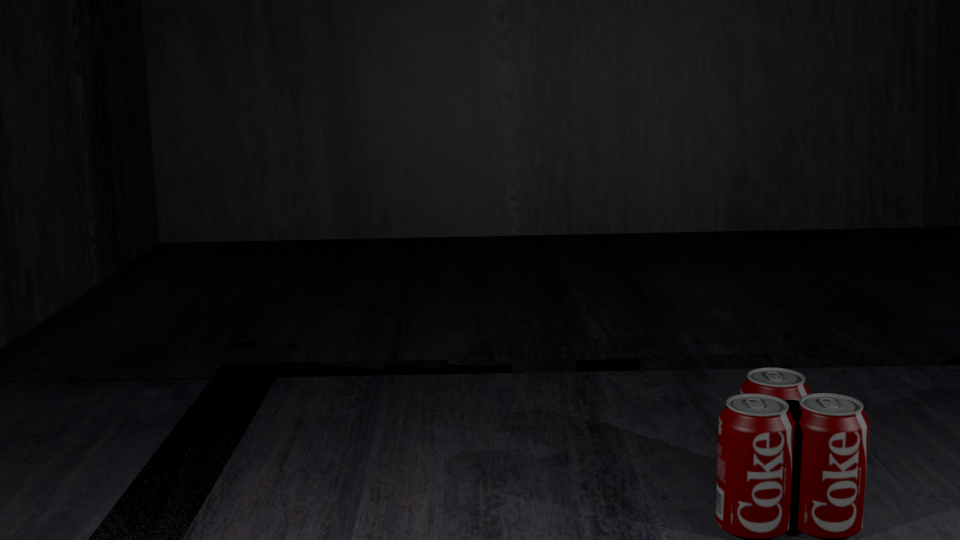cola_can: (791, 393, 868, 533), (718, 394, 794, 535), (742, 368, 810, 499)
